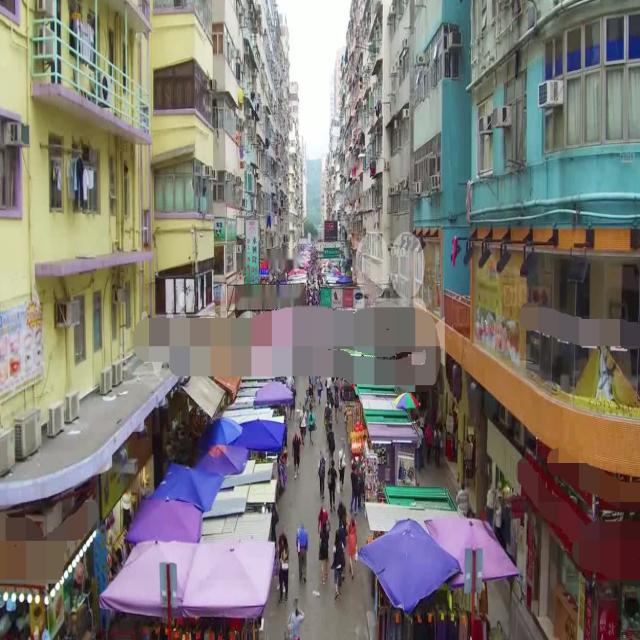fixed_stall: (372, 569, 492, 640), (132, 619, 259, 640), (360, 439, 386, 506), (350, 420, 367, 462), (343, 396, 363, 429)
sunshade: (358, 515, 464, 615), (98, 536, 193, 618), (182, 537, 274, 616), (424, 512, 520, 586), (150, 459, 221, 510), (125, 498, 202, 545), (183, 366, 225, 418), (231, 418, 286, 452), (197, 442, 248, 473), (197, 416, 241, 450), (252, 377, 294, 407), (212, 358, 240, 396), (388, 309, 408, 338), (393, 390, 419, 411), (250, 340, 280, 354)
